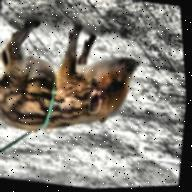boar: (0, 0, 166, 165)
